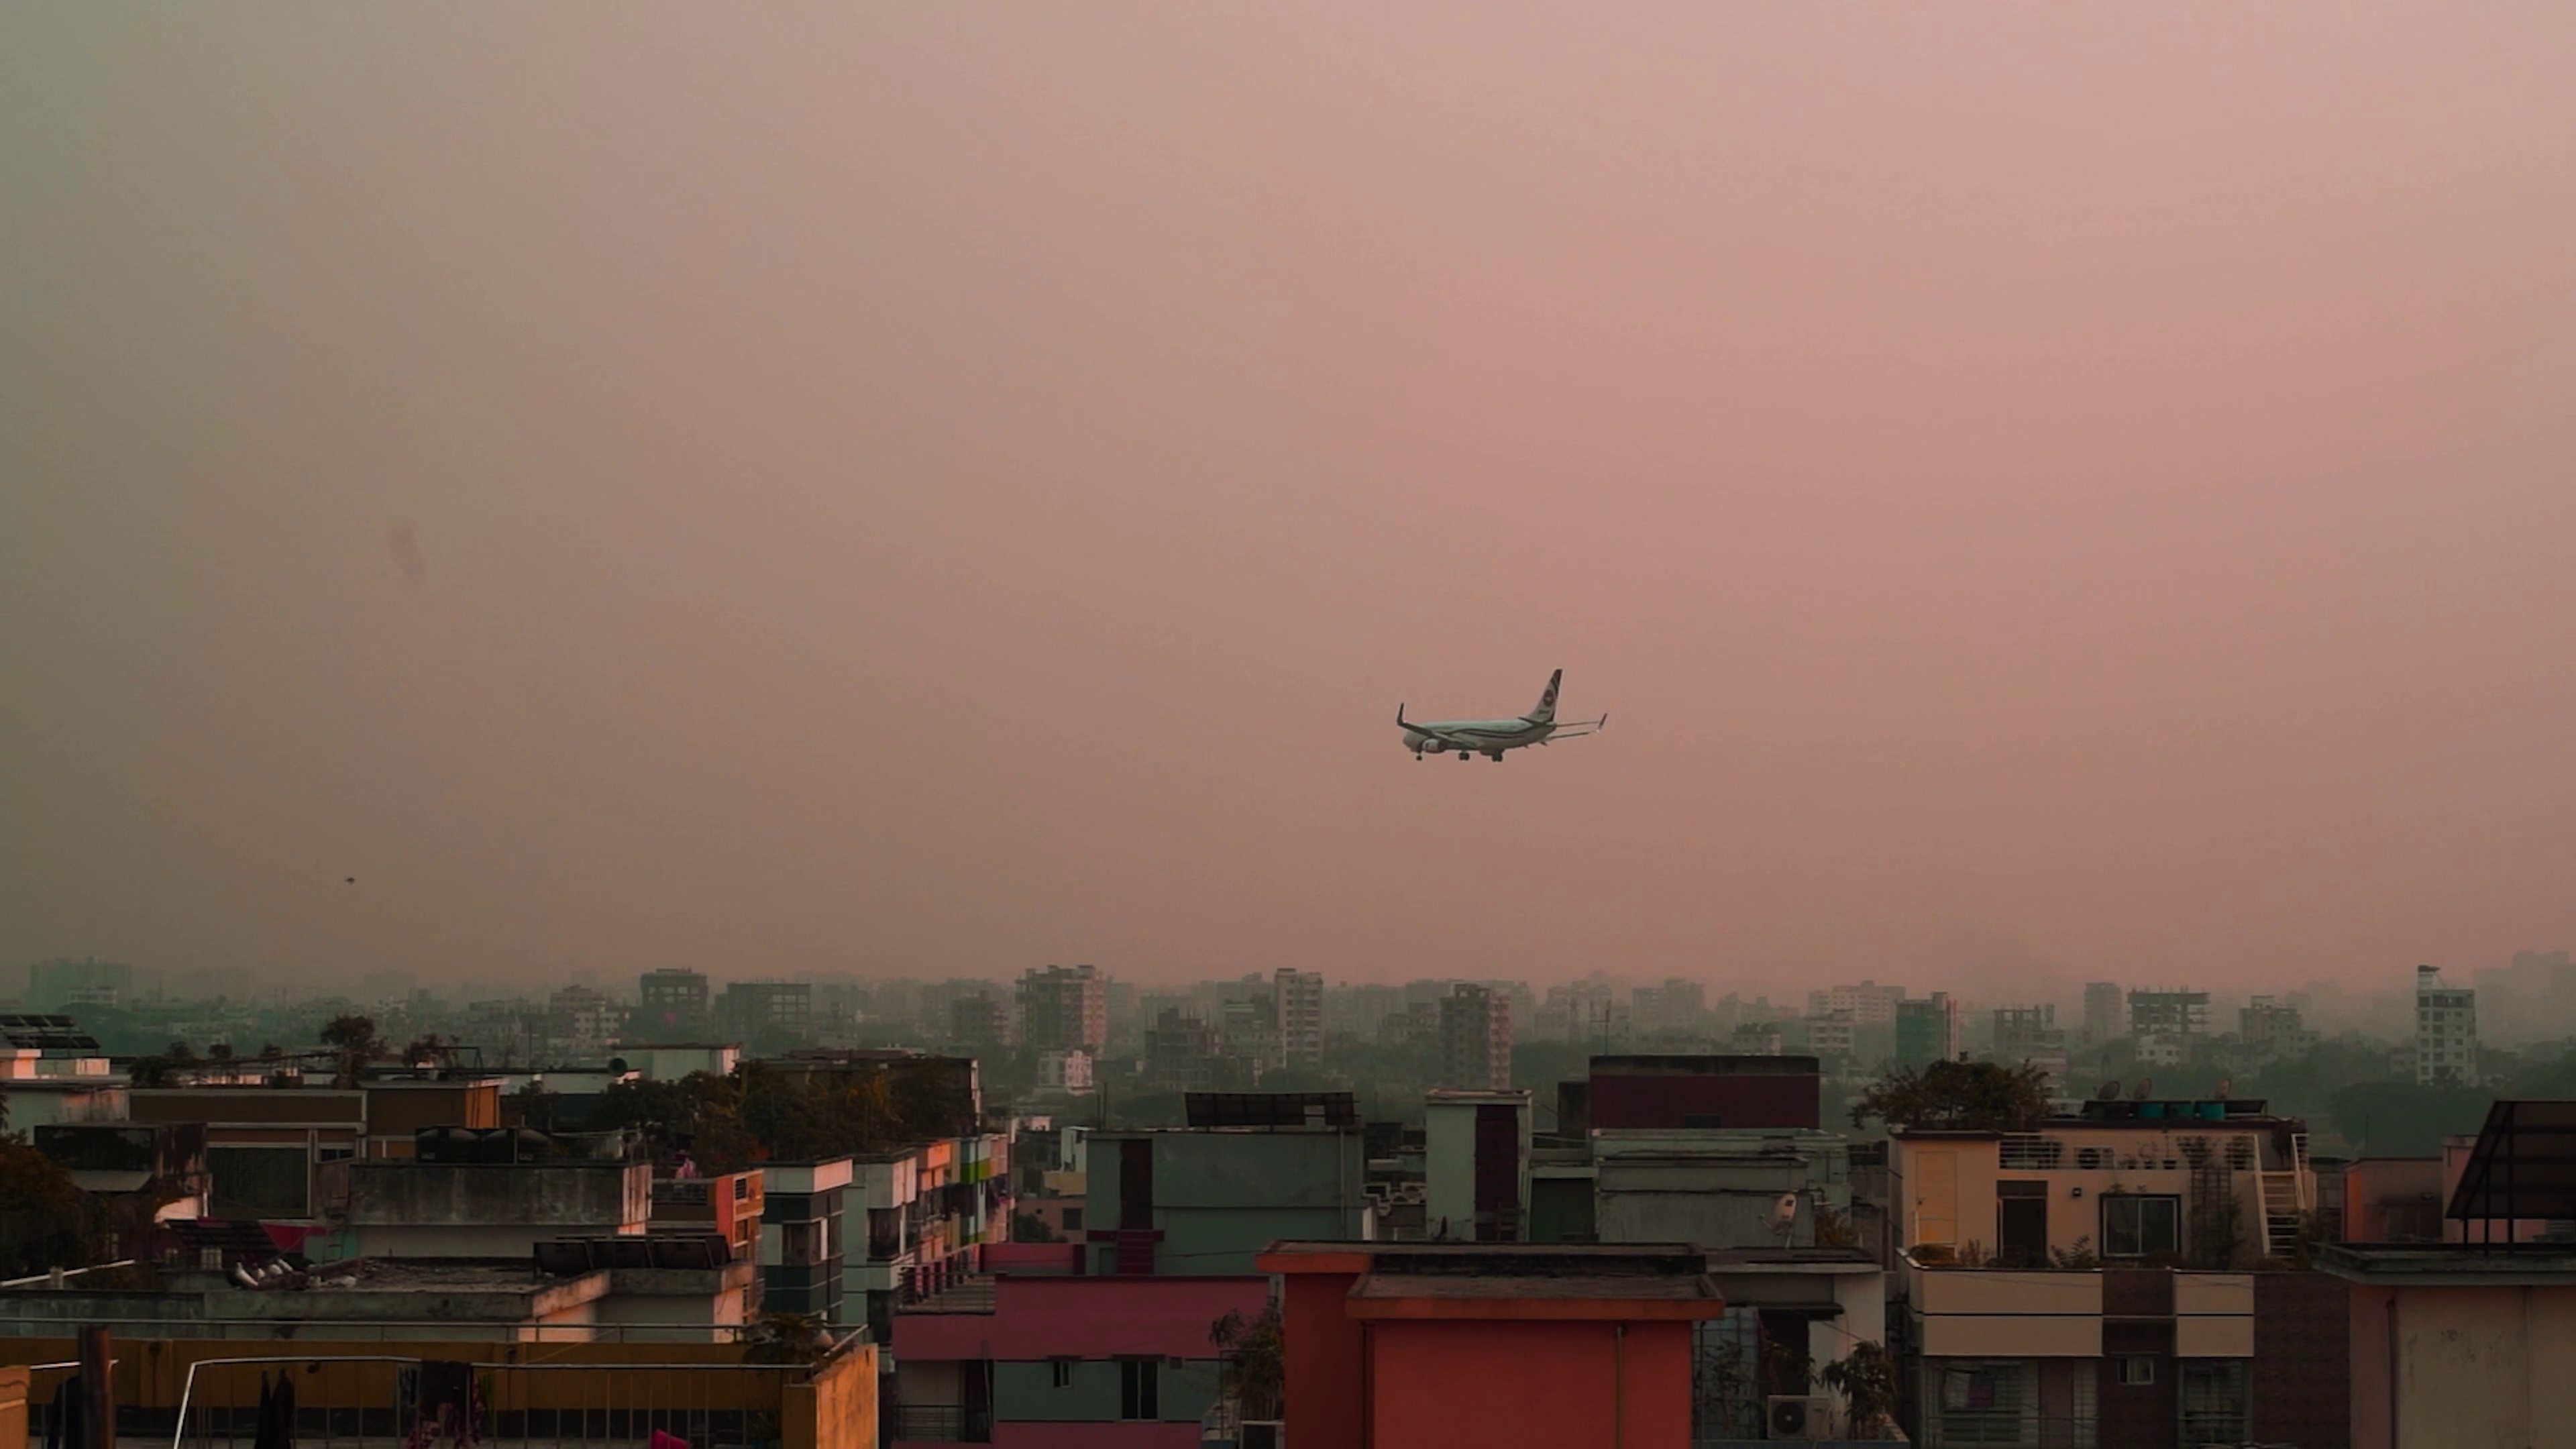plane: (1396, 667, 1606, 761)
